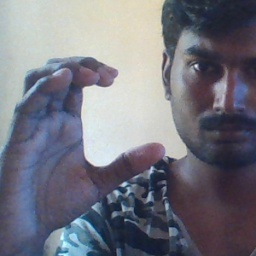C: (30, 53, 166, 200)
